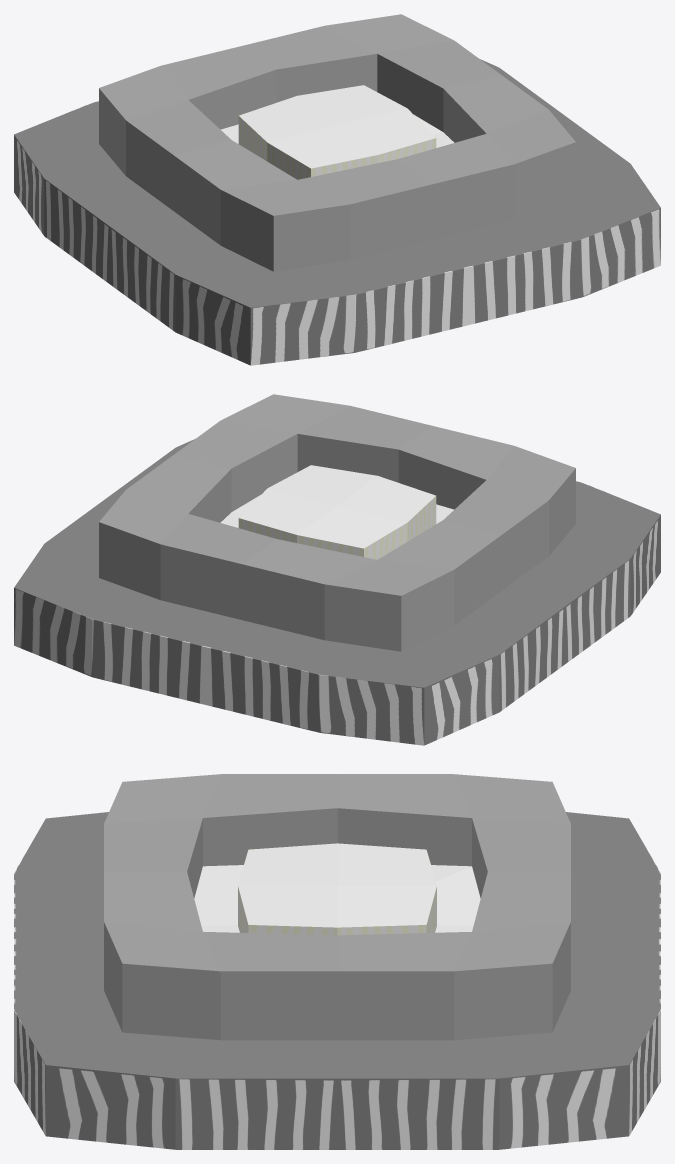
File: processador.fbx
The picture shows the model from 3 angles, top to bottom: view 1: azimuth 30°, elevation 25°; view 2: azimuth 150°, elevation 25°; view 3: azimuth 270°, elevation 25°; orthographic projection. The views are drawn at different scales.
Parts seen in each view (by area): view 1: Cube, Cube.001; view 2: Cube, Cube.001; view 3: Cube, Cube.001.
Part boxes in pixels (x1=…): Cube: x1=14, y1=14, x2=660, y2=365; Cube.001: x1=221, y1=85, x2=454, y2=179; Cube: x1=14, y1=394, x2=660, y2=745; Cube.001: x1=220, y1=465, x2=453, y2=559; Cube: x1=14, y1=774, x2=660, y2=1149; Cube.001: x1=194, y1=843, x2=480, y2=935.
Bounding box in the file's own units: 200 × 48.22 × 200.
Materials: 2 (2 with a texture image).
